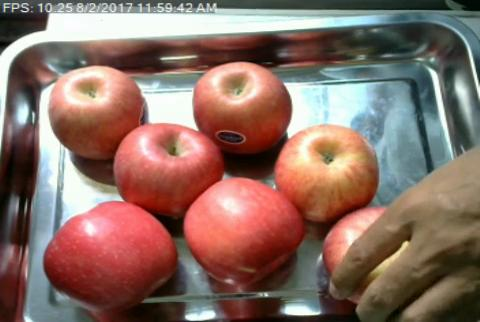apple: (42, 202, 178, 307), (190, 175, 305, 282), (112, 124, 221, 214), (275, 125, 379, 218), (48, 64, 141, 158), (192, 62, 289, 148)
